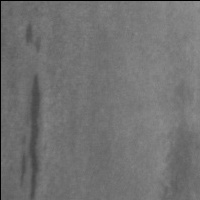inclusion: (16, 70, 46, 200), (23, 20, 46, 58)
